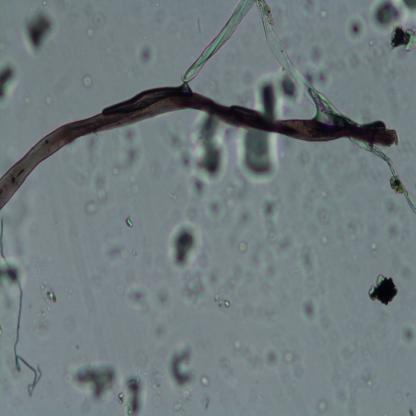Background material: (0, 210, 52, 398), (237, 188, 324, 298), (180, 112, 229, 186), (175, 175, 230, 234), (123, 280, 176, 340), (323, 352, 375, 413), (312, 196, 366, 249), (126, 349, 167, 415), (236, 129, 282, 184), (249, 340, 302, 386), (224, 174, 262, 238), (340, 39, 390, 81), (254, 73, 300, 117), (70, 364, 118, 406), (168, 220, 204, 273), (176, 266, 220, 309), (20, 7, 58, 55), (115, 128, 148, 176), (305, 36, 337, 85), (368, 0, 416, 32), (374, 186, 400, 245), (166, 338, 196, 388), (7, 203, 36, 254), (98, 235, 137, 272), (0, 254, 25, 297), (122, 373, 148, 414), (85, 174, 110, 215), (367, 274, 397, 307), (74, 7, 105, 38), (0, 61, 19, 110), (297, 143, 323, 178), (25, 316, 56, 343), (214, 347, 235, 386), (344, 12, 368, 45), (172, 385, 197, 416), (295, 0, 330, 22), (390, 320, 416, 349), (156, 13, 181, 41), (391, 24, 416, 52), (135, 40, 156, 70), (83, 133, 97, 176), (231, 339, 250, 369), (311, 392, 334, 416), (301, 296, 319, 325), (165, 120, 180, 154), (120, 174, 142, 196), (211, 290, 232, 311), (39, 279, 56, 304), (163, 161, 178, 184), (363, 238, 377, 260), (201, 392, 213, 416), (62, 281, 74, 304), (160, 186, 178, 201), (65, 315, 77, 335), (44, 89, 56, 109), (82, 72, 94, 90), (235, 238, 248, 254), (200, 372, 211, 389), (114, 389, 124, 407), (402, 264, 413, 280), (392, 390, 404, 402), (406, 402, 416, 416), (126, 218, 134, 230), (0, 41, 7, 53), (41, 0, 46, 8)
Cellulose filter fibre: (257, 0, 416, 213), (182, 0, 256, 83)
Cotton: (0, 86, 398, 213)
